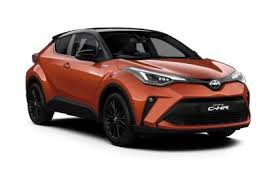Toyota: (29, 33, 249, 132)
